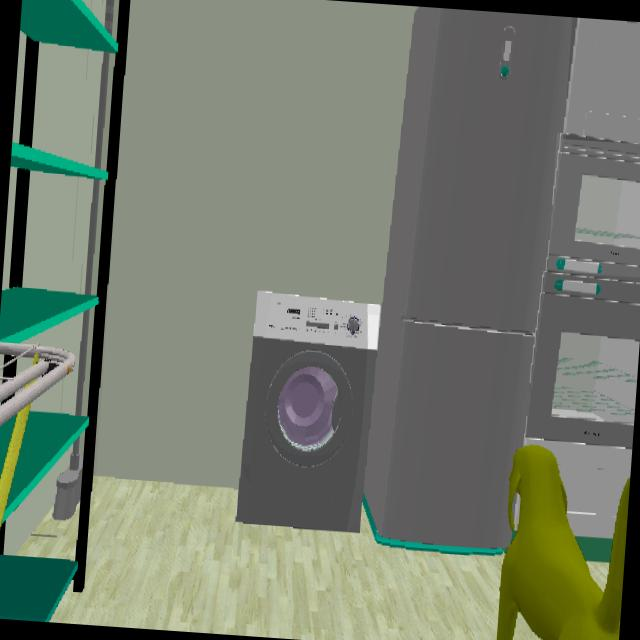cabinet: (564, 18, 640, 144)
fridge: (364, 6, 575, 547)
microwave: (549, 133, 640, 274)
oven: (526, 273, 640, 446)
shelf: (0, 0, 129, 618)
